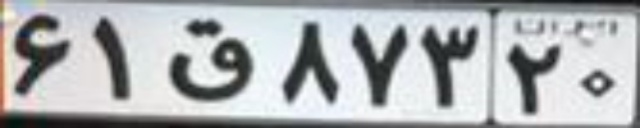0: (576, 67, 616, 98)
1: (90, 15, 132, 99)
2: (505, 42, 559, 114)
3: (421, 25, 479, 108)
6: (12, 11, 70, 94)
7: (350, 22, 406, 104)
8: (282, 21, 337, 103)
ghaf: (167, 17, 255, 101)
